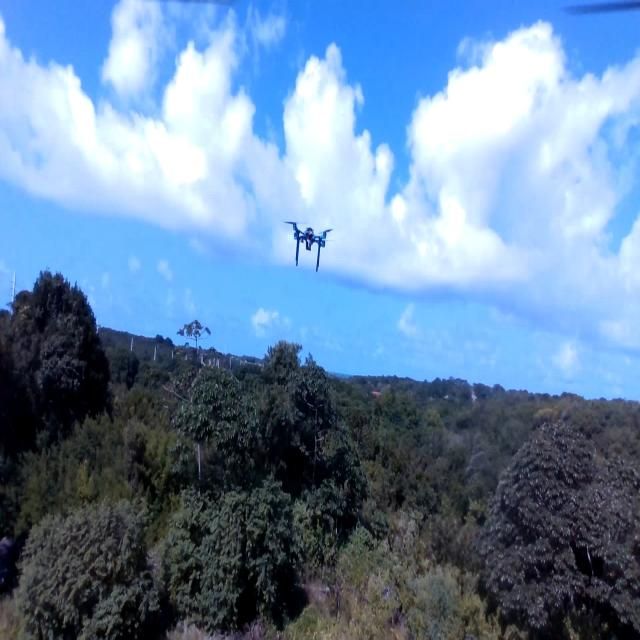-uav-: (278, 207, 340, 280)
